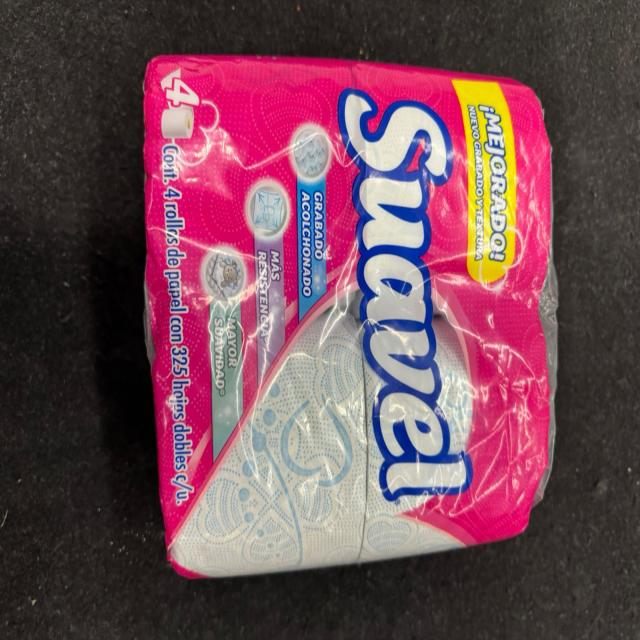Higienico Suavel 325h 4rollos: (140, 45, 566, 571)
